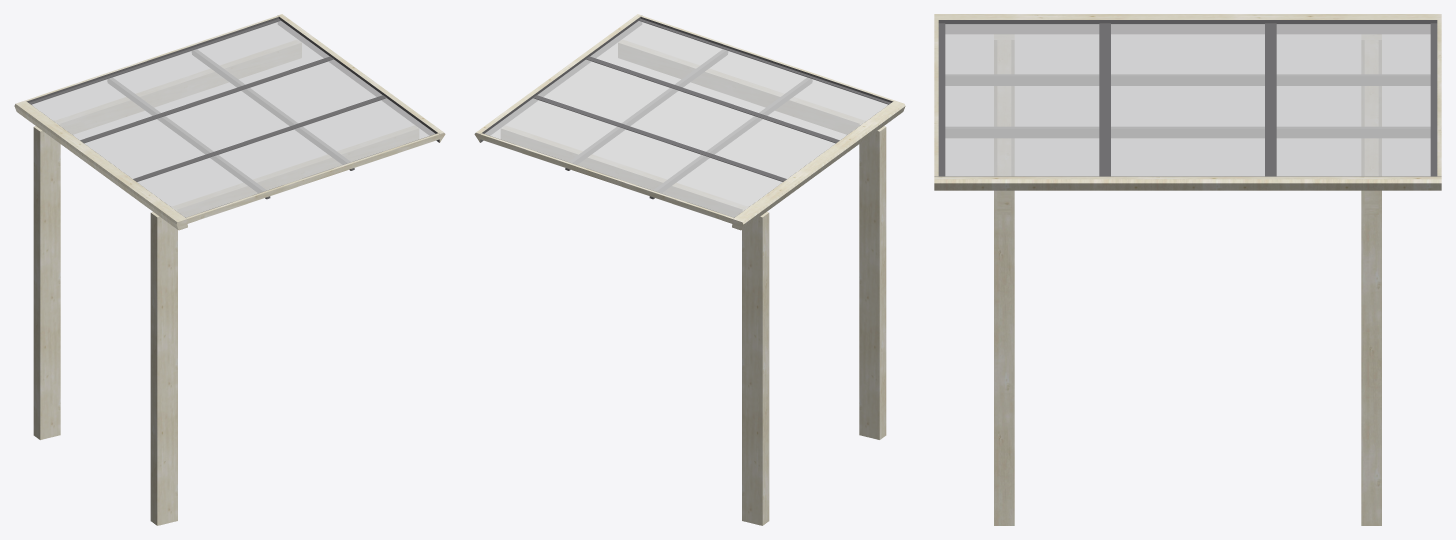
File: 2121-22_whitepine.fbx
3 renders of one model, left to right at view 1: azimuth 30°, elevation 25°; view 2: azimuth 150°, elevation 25°; view 3: azimuth 270°, elevation 25°, orthographic. The views are drawn at different scales.
Visible parts, largest first — view 1: 2121-22whitepine; view 2: 2121-22whitepine; view 3: 2121-22whitepine.
Part boxes in pixels (box(x1,y1,x2,y2)): 2121-22whitepine: box(14, 14, 445, 525); 2121-22whitepine: box(474, 14, 905, 525); 2121-22whitepine: box(934, 14, 1441, 525).
Bounding box in the file's own units: 210 × 255 × 219.
Materials: 4 (2 with a texture image).
